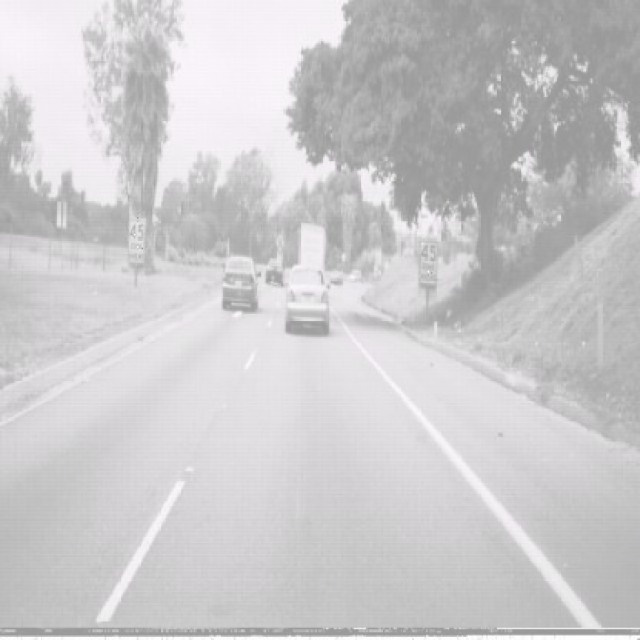zoneAhead45: (417, 237, 438, 285), (128, 217, 146, 263)
